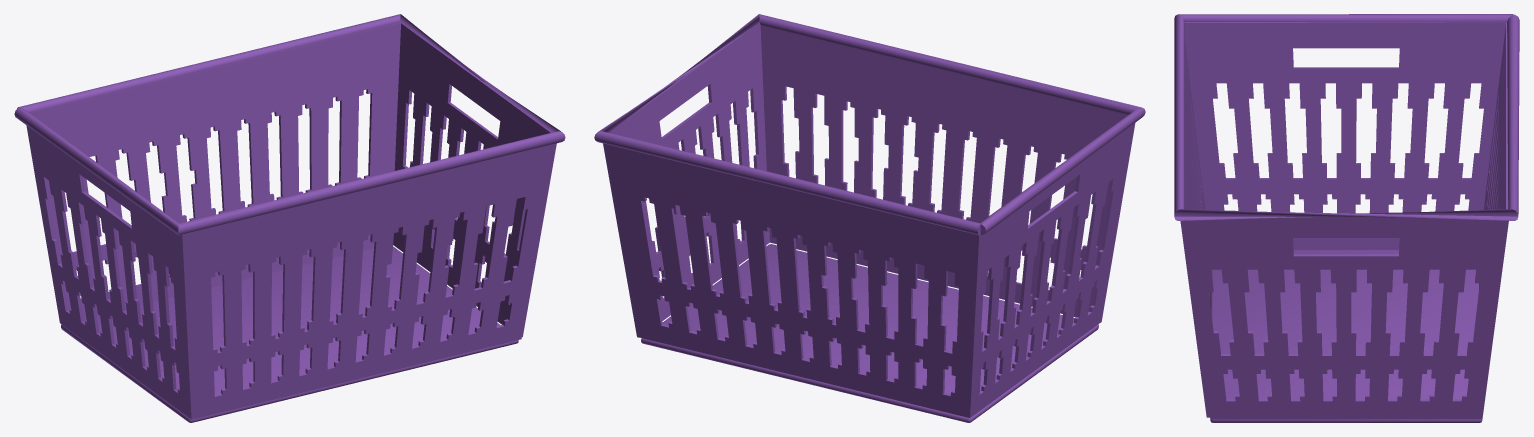
File: rec0QcsW5w5BnCbzq.glb
3 renders of one model, left to right at view 1: azimuth 30°, elevation 25°; view 2: azimuth 150°, elevation 25°; view 3: azimuth 270°, elevation 25°, orthographic. The views are drawn at different scales.
Visible parts, largest first — view 1: Panier_Linge_Corps; view 2: Panier_Linge_Corps; view 3: Panier_Linge_Corps.
Part boxes in pixels (<box>): Panier_Linge_Corps: <box>14,14,565,422</box>; Panier_Linge_Corps: <box>594,14,1145,422</box>; Panier_Linge_Corps: <box>1174,14,1519,422</box>.
Size of the model in its own units: 0.5191 by 0.2766 by 0.3807.
